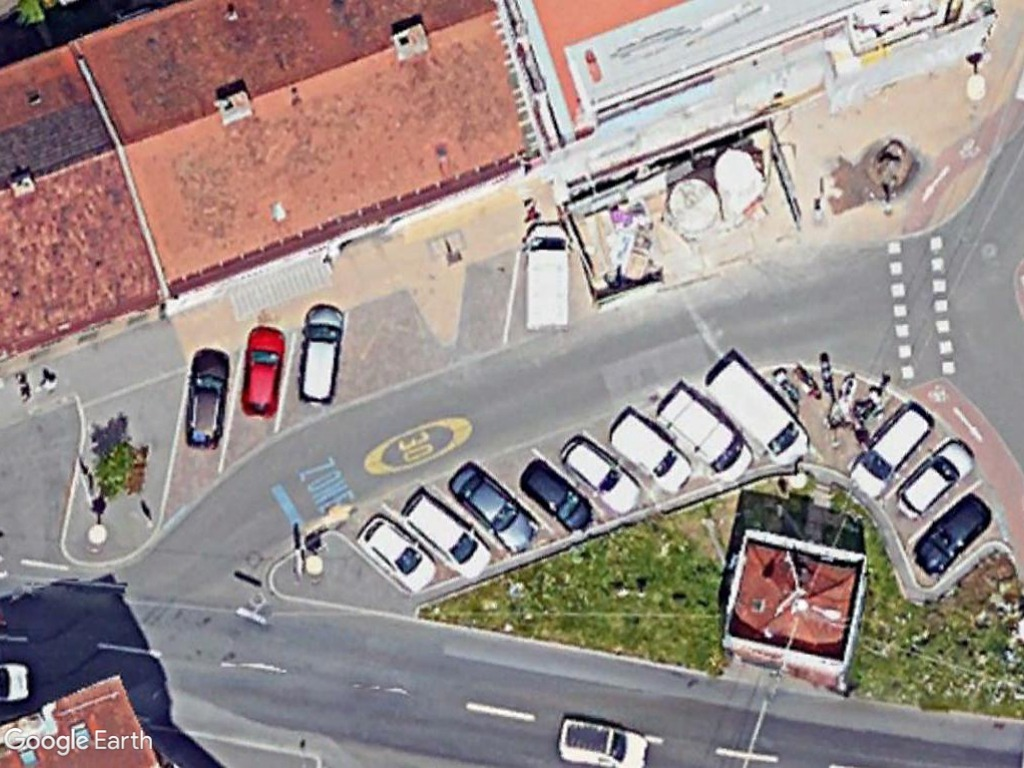car: (390, 486, 498, 581), (847, 395, 942, 502), (446, 455, 543, 557), (556, 430, 647, 516), (912, 490, 999, 579), (352, 511, 441, 594), (893, 435, 977, 522), (289, 299, 353, 410), (515, 458, 601, 535), (181, 344, 233, 451), (236, 319, 290, 421)
van: (701, 353, 812, 468), (658, 382, 759, 483), (601, 401, 696, 497), (522, 219, 578, 337), (549, 712, 658, 768)
